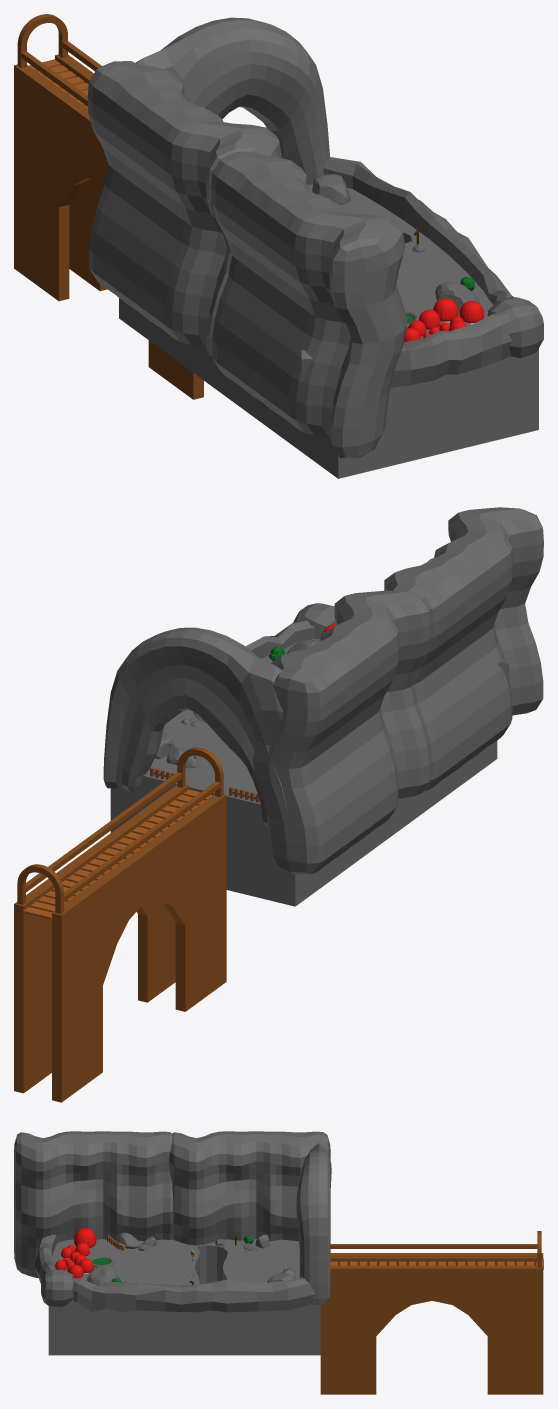
File: karta142.fbx
3 views of the same model, one above another, from view 1: azimuth 30°, elevation 25°; view 2: azimuth 150°, elevation 25°; view 3: azimuth 270°, elevation 25° (orthographic). The views are drawn at different scales.
Visible parts, largest first — view 1: Стена.001, Стена, Plane, Cube.059, Арка, Cube.047, Cube.053, Cube.060, Cube.048, Cube.056, Cube.057, Cube.080 (+2 smaller); view 2: Стена, Стена.001, Cube.059, Арка, Plane, Cube.060, Cube.056, Cube.061, Cube.053, Cube.057, Cube.048, Cube.058; view 3: Plane, Cube.060, Стена.001, Стена, Cube.053, Арка, Cube.056, Cube.059, Cube.048, Cube.061, Cube.047, Cube.054 (+1 smaller).
Boxes of the visible parts, box(x1,y1,x2,y2) form: Стена.001: box(211, 151, 407, 458); Стена: box(87, 61, 281, 367); Plane: box(119, 184, 538, 478); Cube.059: box(14, 64, 203, 399); Арка: box(135, 17, 329, 184); Cube.047: box(301, 311, 511, 387); Cube.053: box(323, 157, 513, 304); Cube.060: box(55, 54, 106, 291); Cube.048: box(487, 296, 543, 358); Cube.056: box(21, 41, 101, 106); Cube.057: box(17, 14, 67, 68); Cube.080: box(312, 174, 350, 204); Стена: box(253, 590, 430, 874); Стена.001: box(384, 507, 543, 790); Cube.059: box(52, 794, 226, 1102); Арка: box(103, 627, 286, 829); Plane: box(110, 639, 497, 906); Cube.060: box(14, 785, 188, 1093); Cube.056: box(26, 772, 220, 901); Cube.061: box(22, 789, 212, 919); Cube.053: box(245, 620, 315, 658); Cube.057: box(17, 864, 63, 913); Cube.048: box(293, 603, 336, 639); Cube.058: box(177, 747, 223, 796); Plane: box(48, 1239, 320, 1355); Cube.060: box(320, 1265, 543, 1394); Стена.001: box(14, 1131, 173, 1277); Стена: box(169, 1131, 330, 1252); Cube.053: box(73, 1277, 315, 1312); Арка: box(296, 1143, 331, 1305); Cube.056: box(330, 1244, 537, 1261); Cube.059: box(330, 1253, 543, 1265); Cube.048: box(41, 1269, 73, 1306); Cube.061: box(330, 1259, 543, 1269); Cube.047: box(34, 1234, 57, 1284); Cube.054: box(87, 1264, 118, 1284).
Size of the model in its own units: 1053 by 1416 by 2951.
